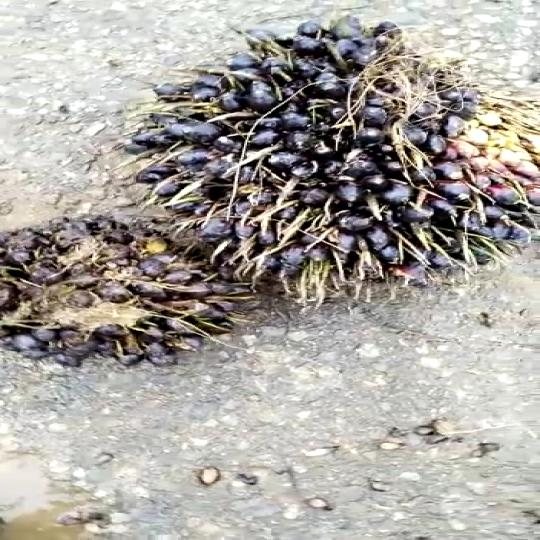mentah: (148, 12, 540, 293), (0, 206, 236, 400)
